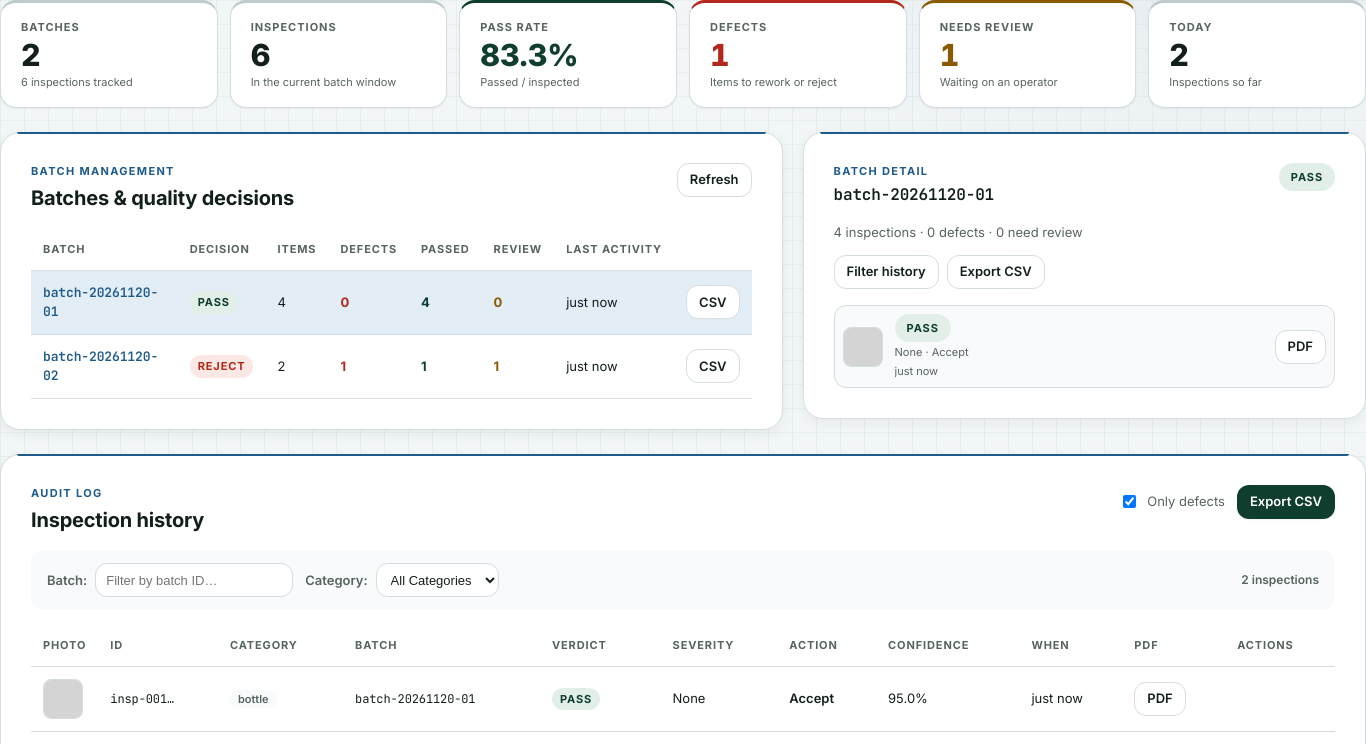
Test: BatchesHistoryView › exports the whole defect log with the active filters
The image size is (1366, 744).
Check: the text "Pass rate" is shown, box x1=480 y1=20 x2=549 y2=34
Type "batch-20261120-01" into the field labelled "Batch:" at point(194, 580), box x1=95 y1=564 x2=293 y2=598
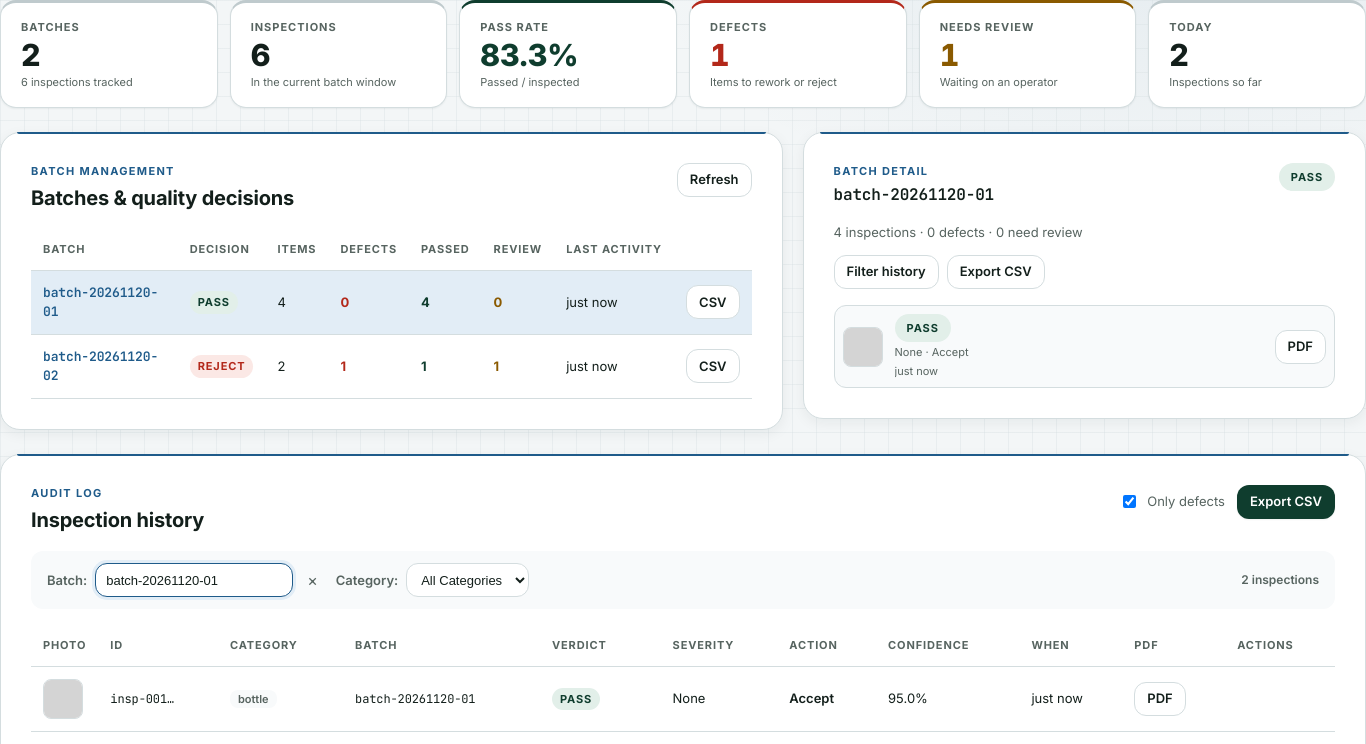
Select "Screw" in the dropdown labelled "Category:" at point(468, 580), box x1=406 y1=564 x2=529 y2=598
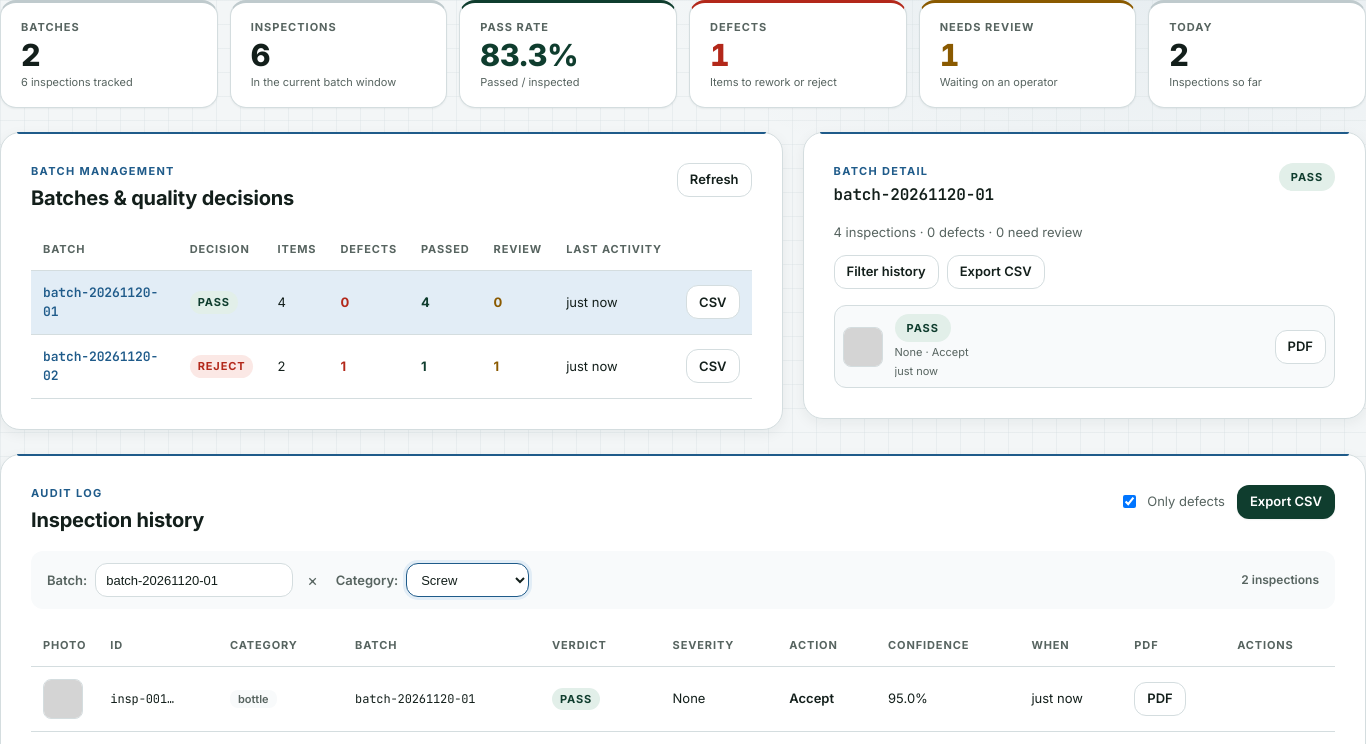
Click the button "Export CSV" next to "Only defects" at point(1286, 502), box x1=1237 y1=485 x2=1335 y2=519
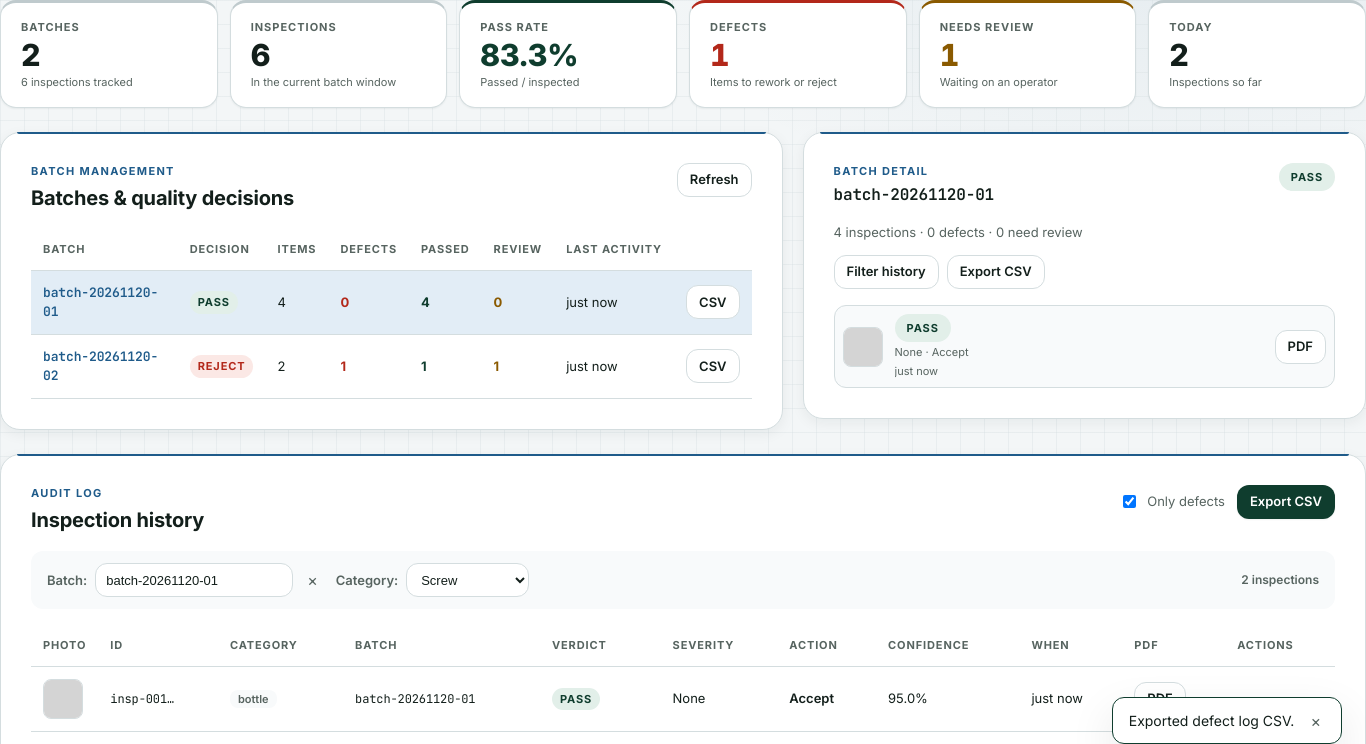
Check: the text "Exported defect log CSV." is shown, box x1=1129 y1=710 x2=1294 y2=731
